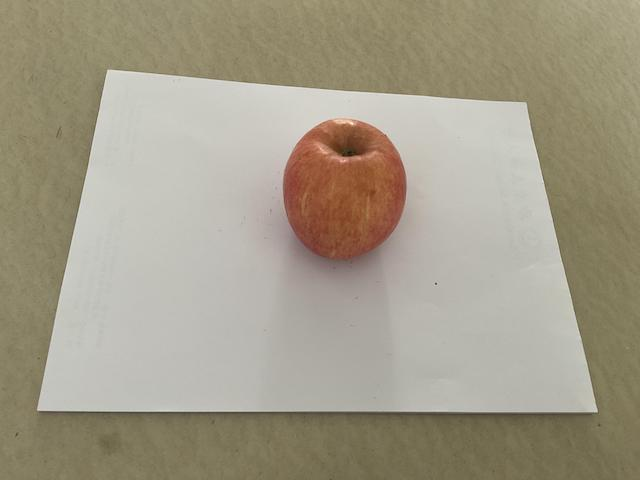apple: (280, 112, 410, 266)
